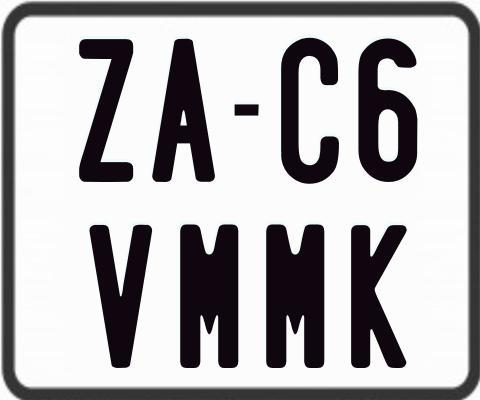6: (355, 39, 420, 185)
A: (152, 37, 218, 184)
C: (281, 38, 339, 186)
K: (349, 224, 407, 372)
M: (266, 221, 327, 365), (180, 224, 239, 368)
V: (88, 222, 153, 365)
Z: (76, 38, 134, 183)
